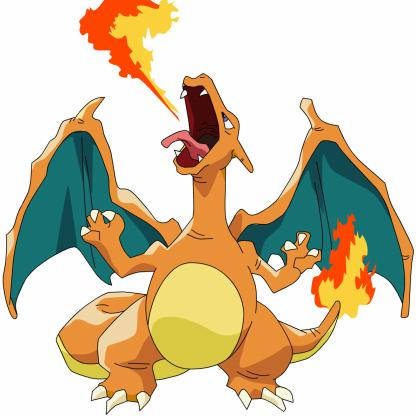Charizard: (1, 71, 416, 416)
